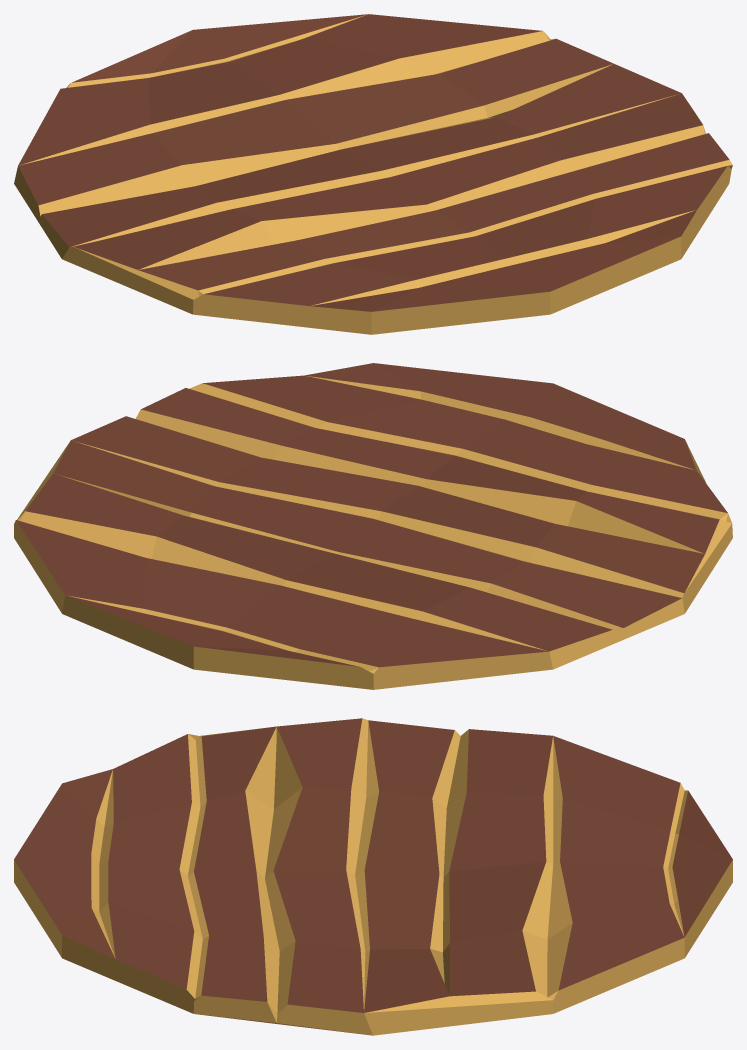
The model's file is tableTop_normal.glb.
3 renders of one model, top to bottom at view 1: azimuth 30°, elevation 25°; view 2: azimuth 150°, elevation 25°; view 3: azimuth 270°, elevation 25°, orthographic.
Parts seen in each view (by area): view 1: TableTop; view 2: TableTop; view 3: TableTop.
Boxes of the visible parts, box(x1,y1,x2,y2) form: TableTop: box(14, 14, 732, 334); TableTop: box(14, 363, 732, 689); TableTop: box(14, 718, 732, 1035).
Size of the model in its own units: 0.8931 by 0.0356 by 0.8949.
